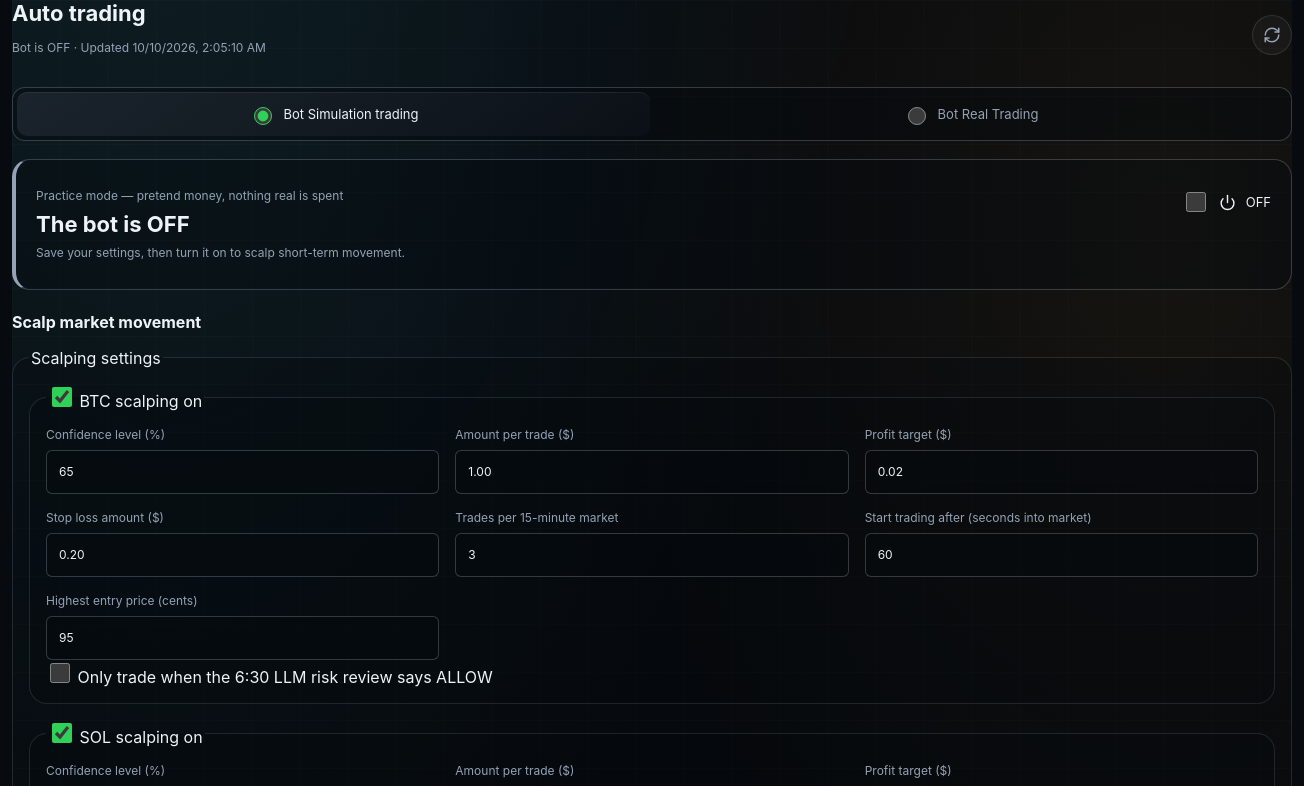
Test case: Trading tab › validates the trading controls and blocks saving invalid values
Clear the field named "BTC Stop loss amount ($)" at (243,555), box [46, 533, 439, 577]
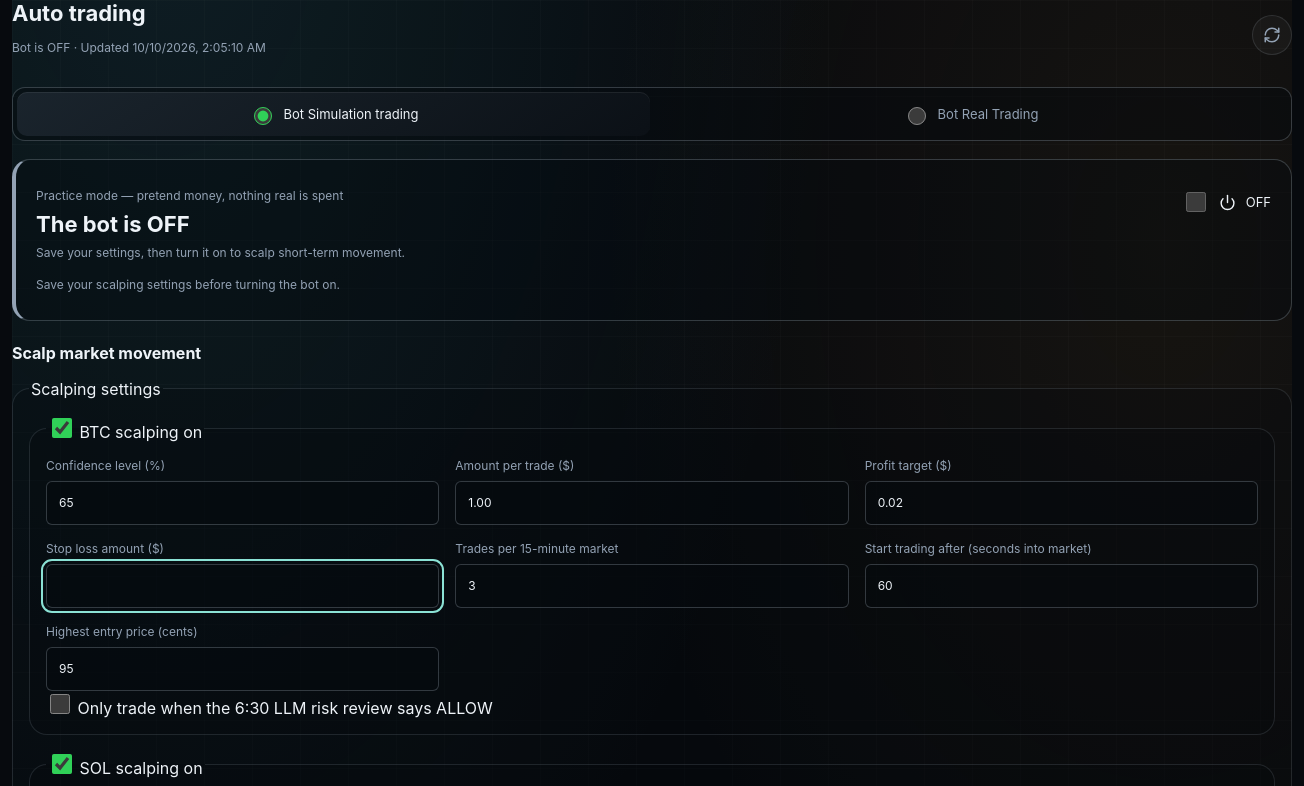
Type "1.00" into the field named "BTC Stop loss amount ($)" at (243,586), box [46, 564, 439, 608]
(page scrolled)
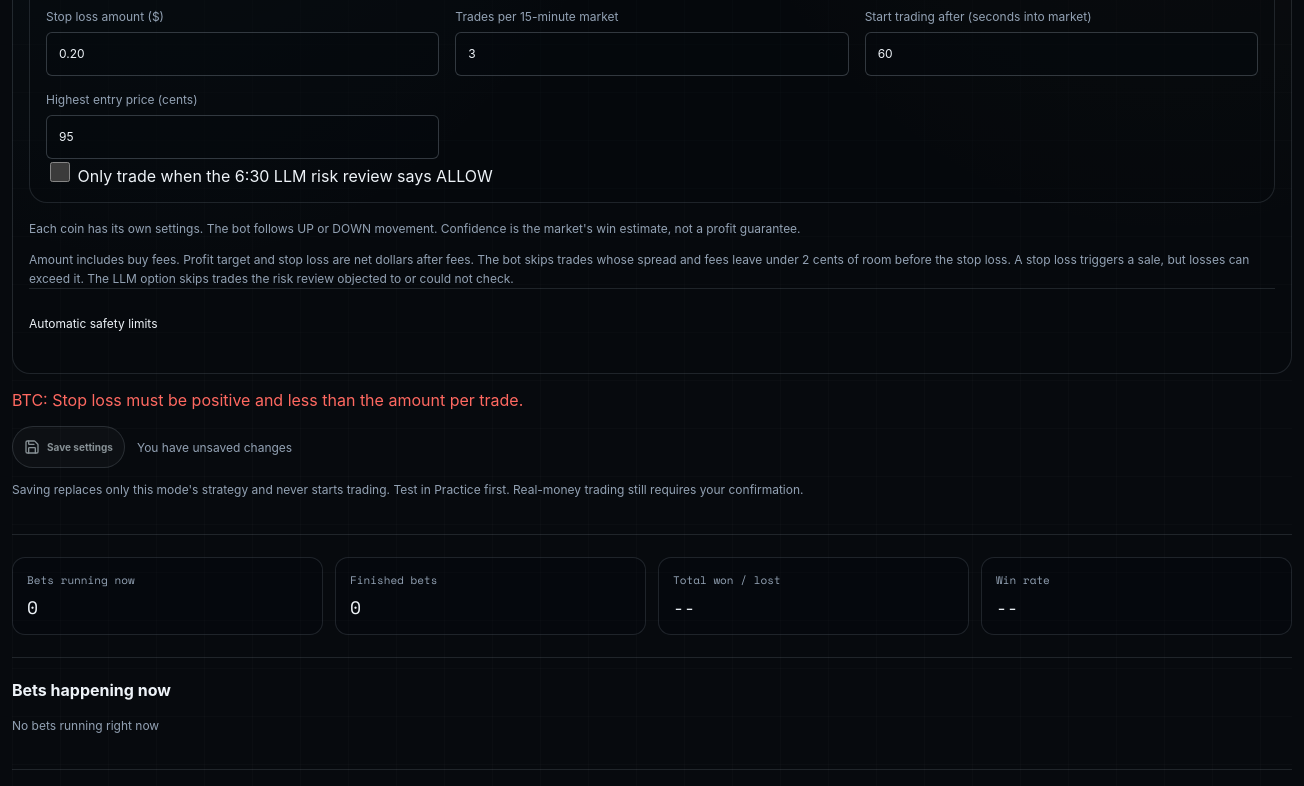
Expected: the button "Save settings" is disabled, [12, 426, 125, 468]
Expected: the message shows "less than", [12, 390, 523, 410]
